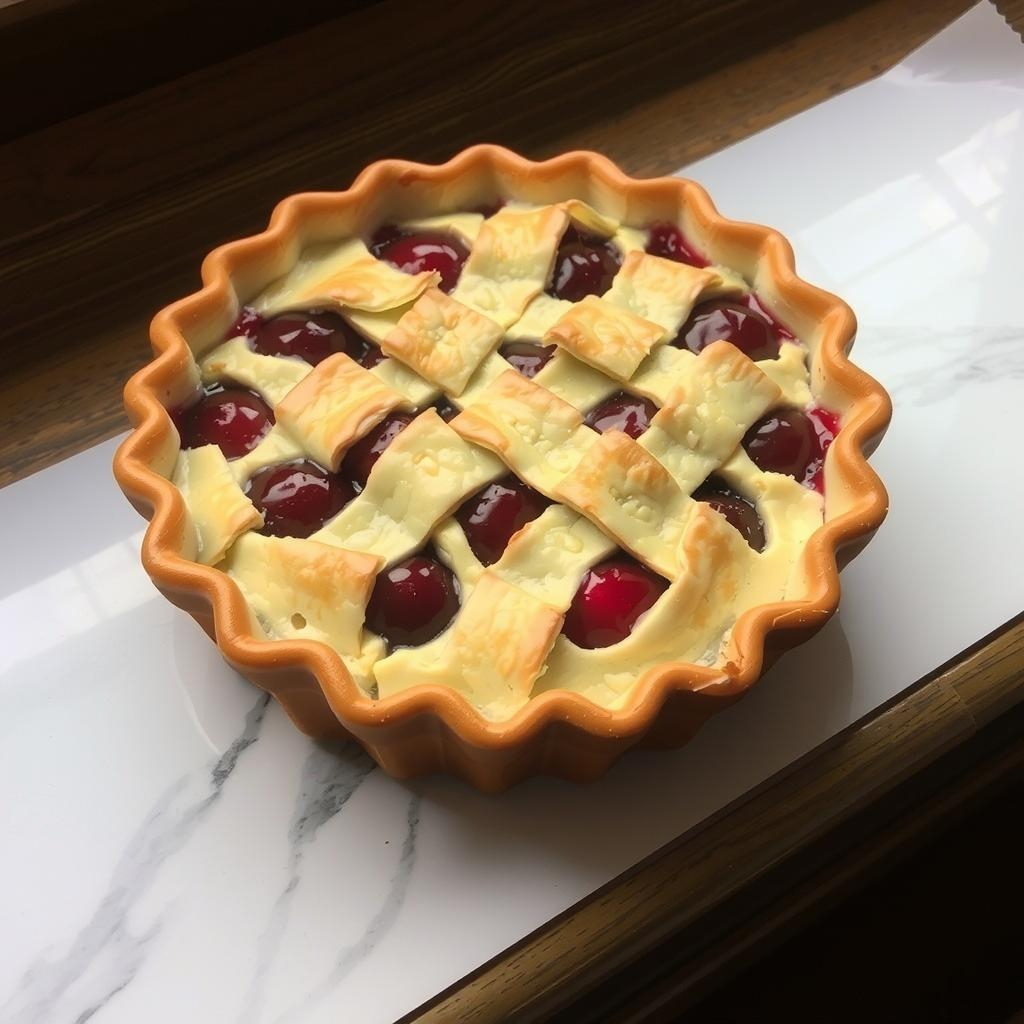pie: (109, 143, 909, 791)
